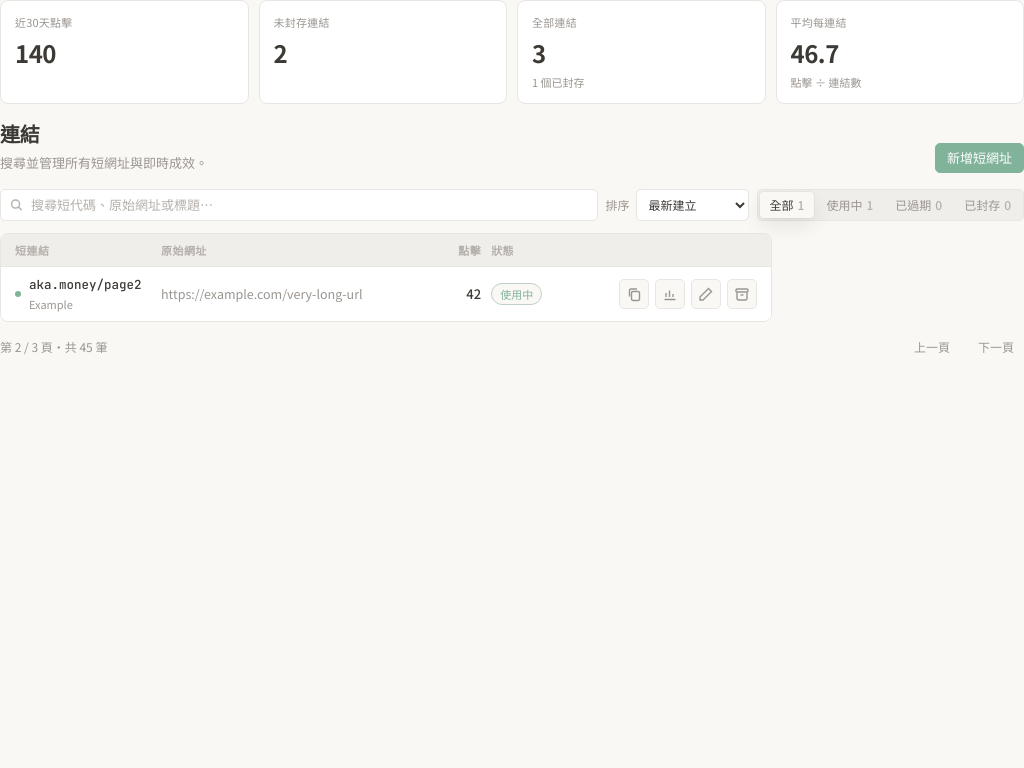
Scenario: DashboardView › reconciles with the server after creating from a later page
This screenshot has width=1024, height=768.
Click the button with test id "open-create" at x=980, y=158, box [935, 142, 1023, 172]
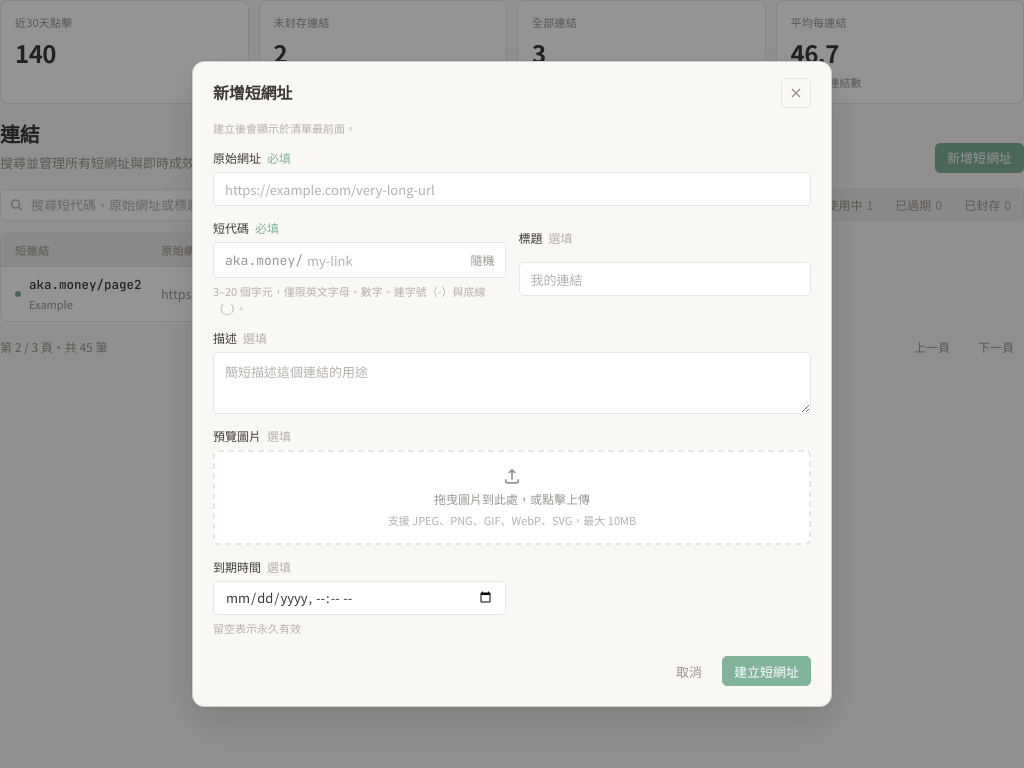
Type "https://example.com/target" into the field labelled "原始網址 必填" at x=512, y=189, box [213, 172, 811, 206]
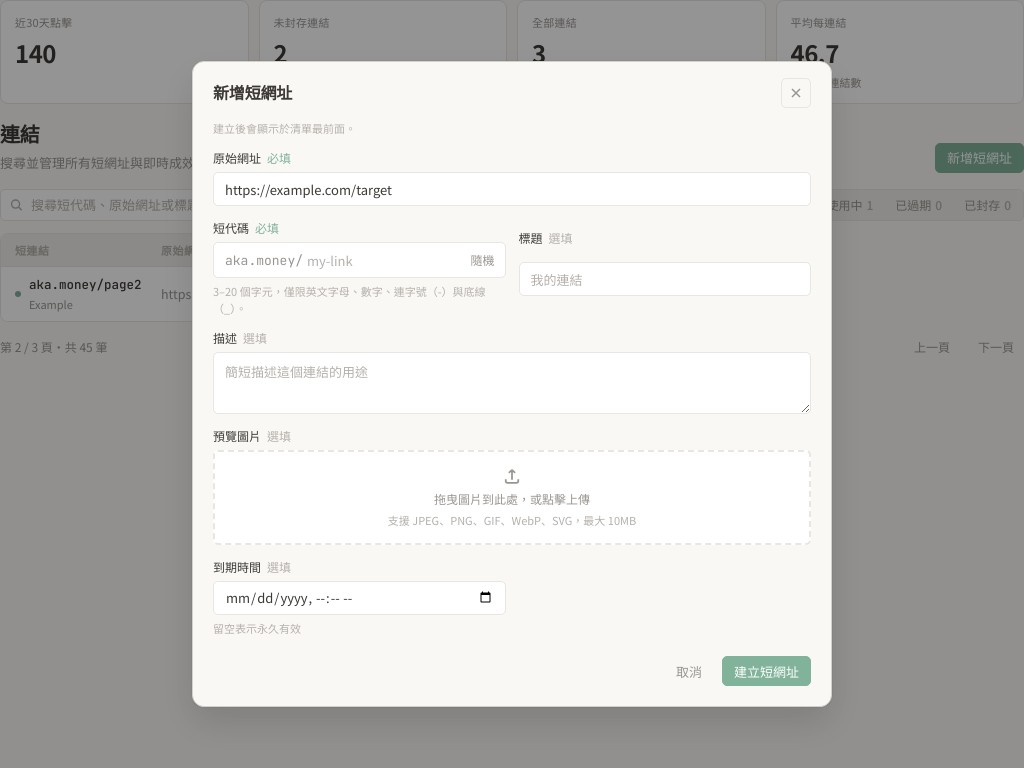
Type "new-link" into the field labelled "短代碼 必填" at x=383, y=260, box [305, 243, 460, 277]
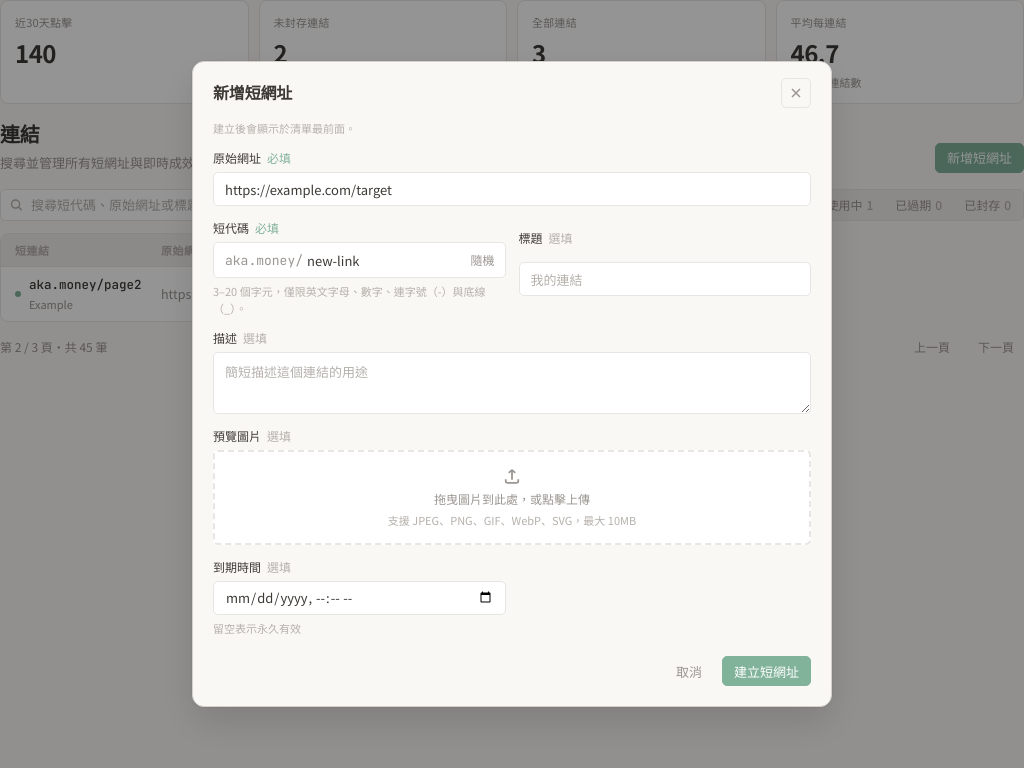
Click the button with test id "create-submit" at x=766, y=671, box [722, 656, 811, 686]
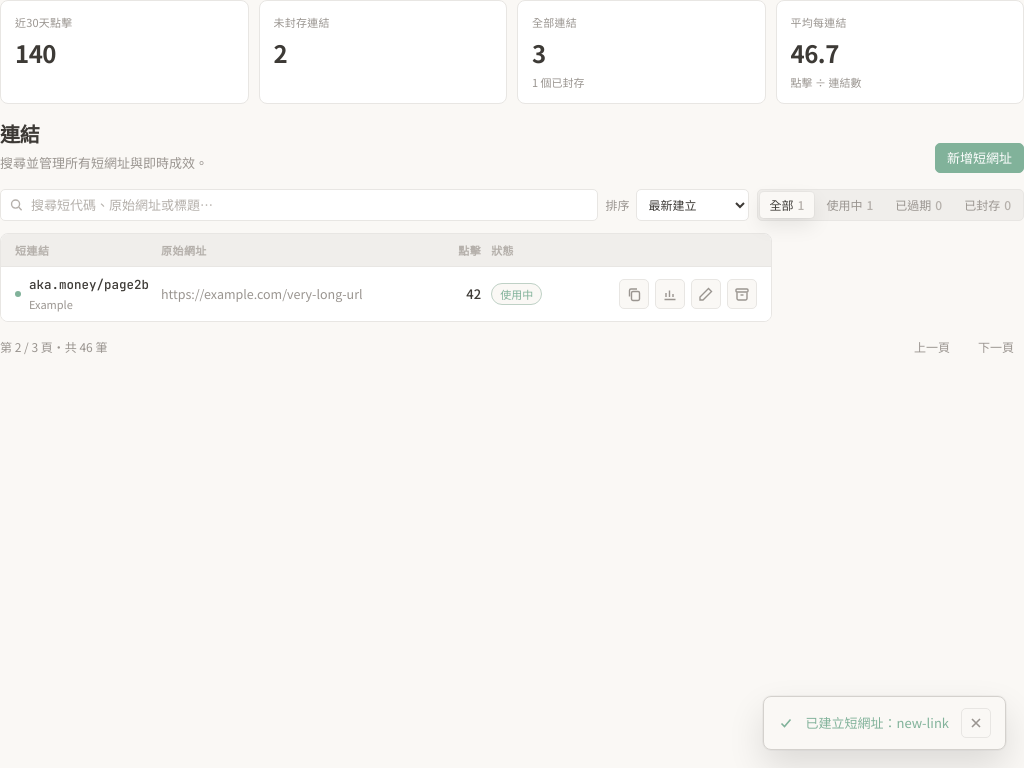
expect the text "new-link" is not shown: met
expect the row shows "page2b": met, box [29, 276, 149, 295]
